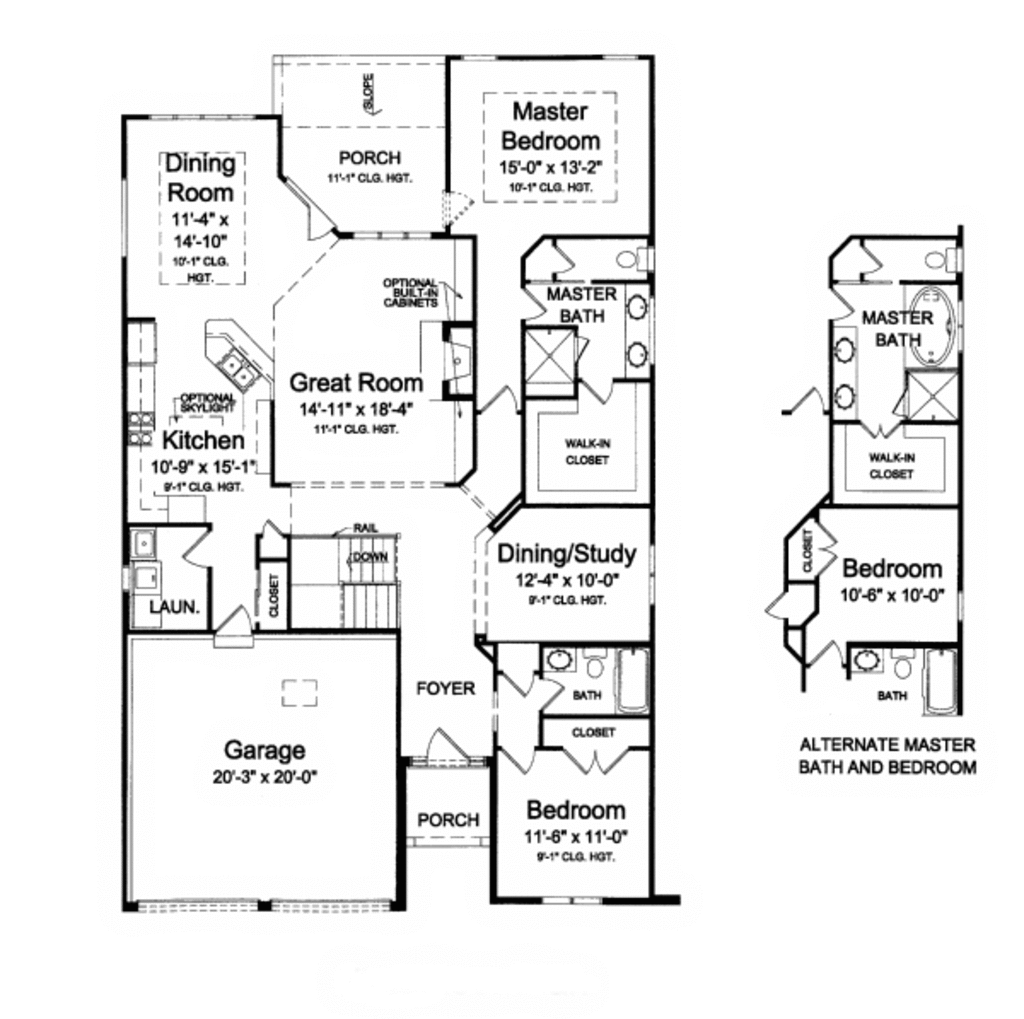door: (557, 741, 630, 778), (436, 184, 476, 240), (211, 606, 261, 649), (295, 195, 336, 246), (419, 729, 466, 770), (523, 673, 568, 713), (501, 738, 546, 776), (809, 519, 839, 576), (780, 384, 825, 421), (850, 238, 887, 282), (477, 379, 512, 421), (184, 530, 214, 575), (507, 286, 544, 321), (577, 378, 620, 408), (499, 665, 539, 695), (807, 638, 842, 668), (765, 590, 798, 621), (858, 419, 904, 440), (549, 241, 574, 278), (830, 282, 853, 322), (260, 509, 284, 540)
large_sink: (922, 236, 971, 282), (615, 241, 661, 279), (885, 643, 920, 686), (584, 648, 615, 690)
small_sink: (622, 284, 660, 375), (857, 641, 880, 682)
stairs: (295, 533, 428, 633)
tub: (896, 289, 955, 362), (609, 641, 653, 717), (923, 643, 957, 721)
twin_sink: (209, 341, 265, 398)
window: (266, 889, 392, 925), (141, 889, 257, 916), (541, 882, 612, 917), (155, 108, 261, 124), (114, 175, 133, 260)
